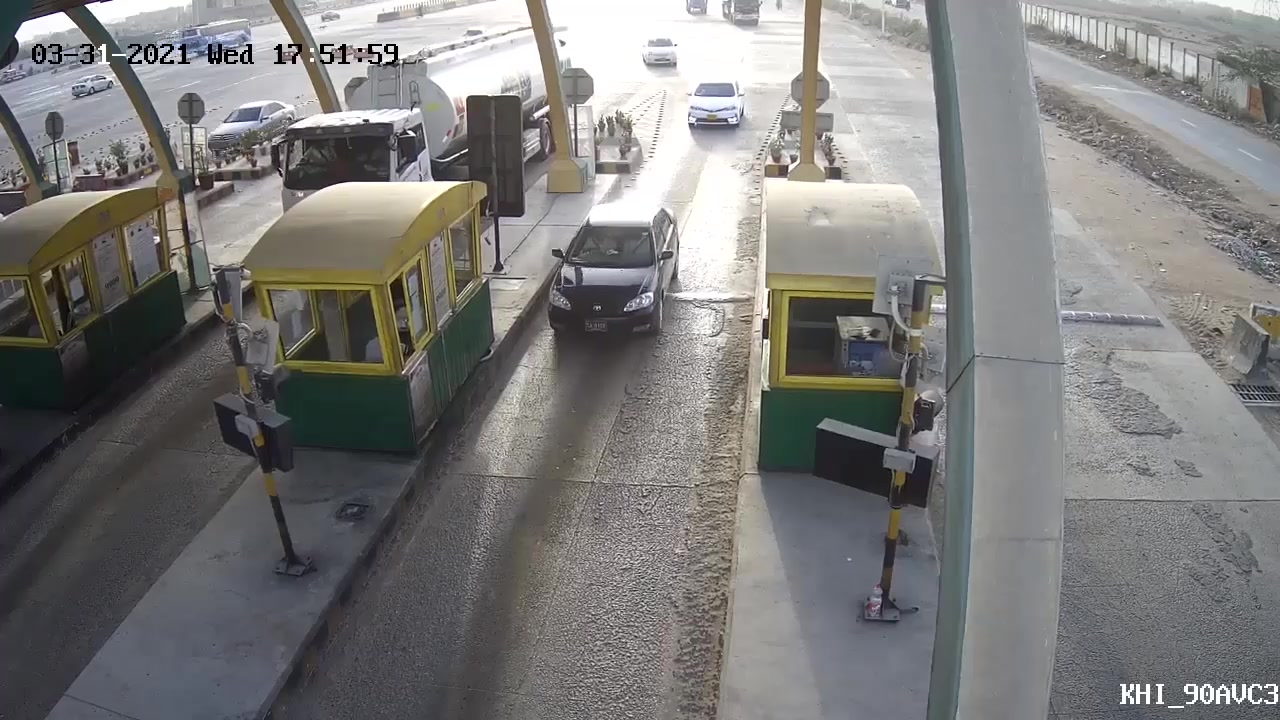F1: (546, 201, 682, 353)
